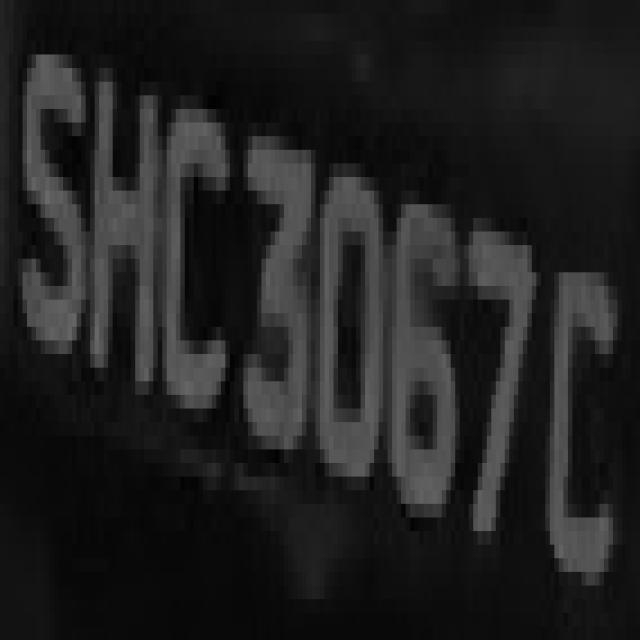0: (293, 109, 379, 504)
3: (239, 95, 315, 477)
6: (365, 136, 460, 558)
7: (446, 164, 532, 586)
C: (149, 82, 234, 463), (546, 204, 626, 599)
H: (81, 27, 158, 409)
S: (5, 0, 86, 354)
